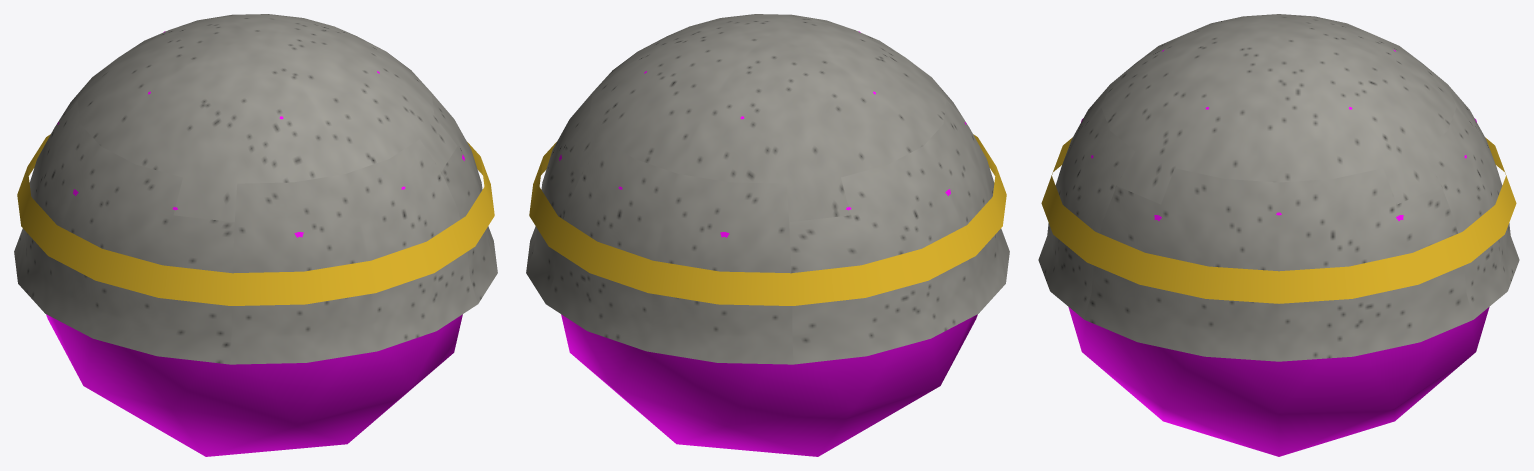
Rendered from EN_Yard_Bollard_Sphere.fbx.
The picture shows the model from 3 angles, left to right: view 1: azimuth 30°, elevation 25°; view 2: azimuth 150°, elevation 25°; view 3: azimuth 270°, elevation 25°; orthographic projection.
Parts seen in each view (by area): view 1: EN_Yard_Bollard_Sphere_Mesh, COL_Body; view 2: EN_Yard_Bollard_Sphere_Mesh, COL_Body; view 3: EN_Yard_Bollard_Sphere_Mesh, COL_Body.
Part boxes in pixels (bbox=[...]): EN_Yard_Bollard_Sphere_Mesh: bbox=[14, 14, 497, 364]; COL_Body: bbox=[46, 31, 464, 456]; EN_Yard_Bollard_Sphere_Mesh: bbox=[526, 14, 1009, 364]; COL_Body: bbox=[559, 31, 977, 456]; EN_Yard_Bollard_Sphere_Mesh: bbox=[1038, 14, 1519, 361]; COL_Body: bbox=[1068, 49, 1489, 456].
Bounding box in the file's own units: 0.54 × 0.494 × 0.54.
